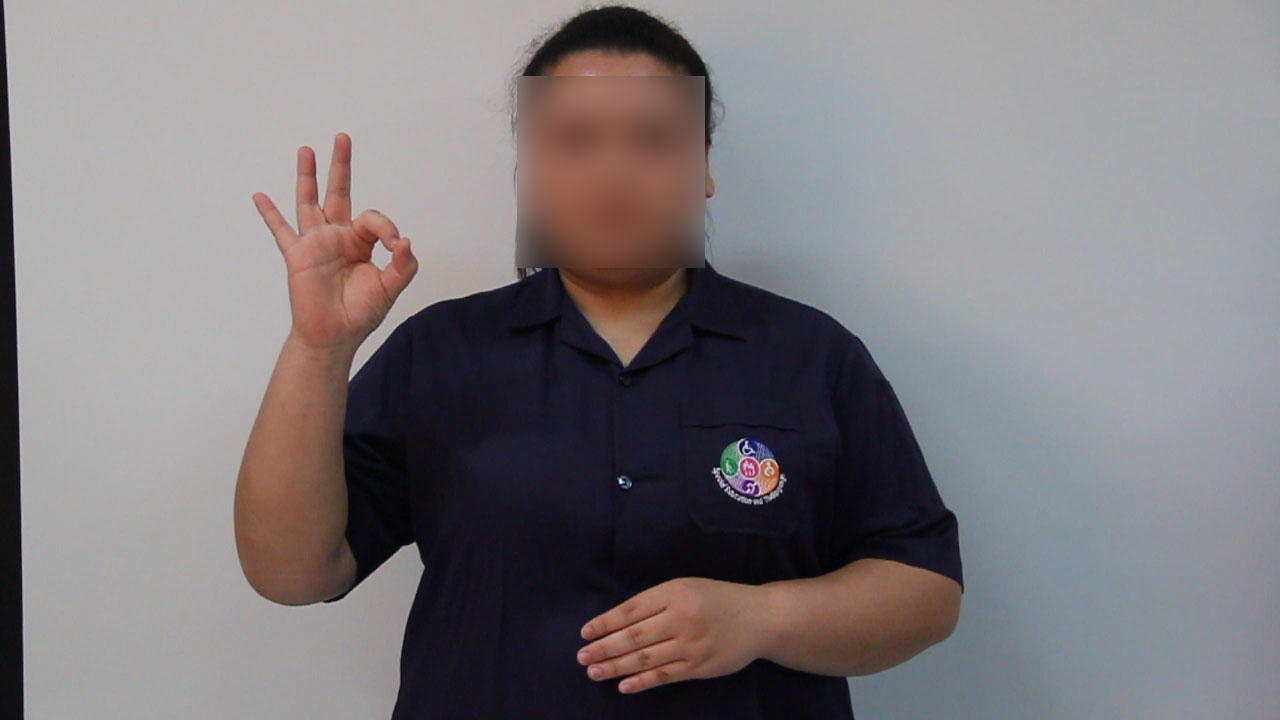for: (244, 121, 426, 353)
